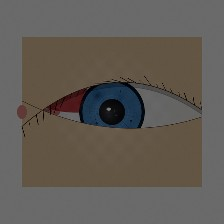hemorrhage_spot: (26, 60, 127, 141)
